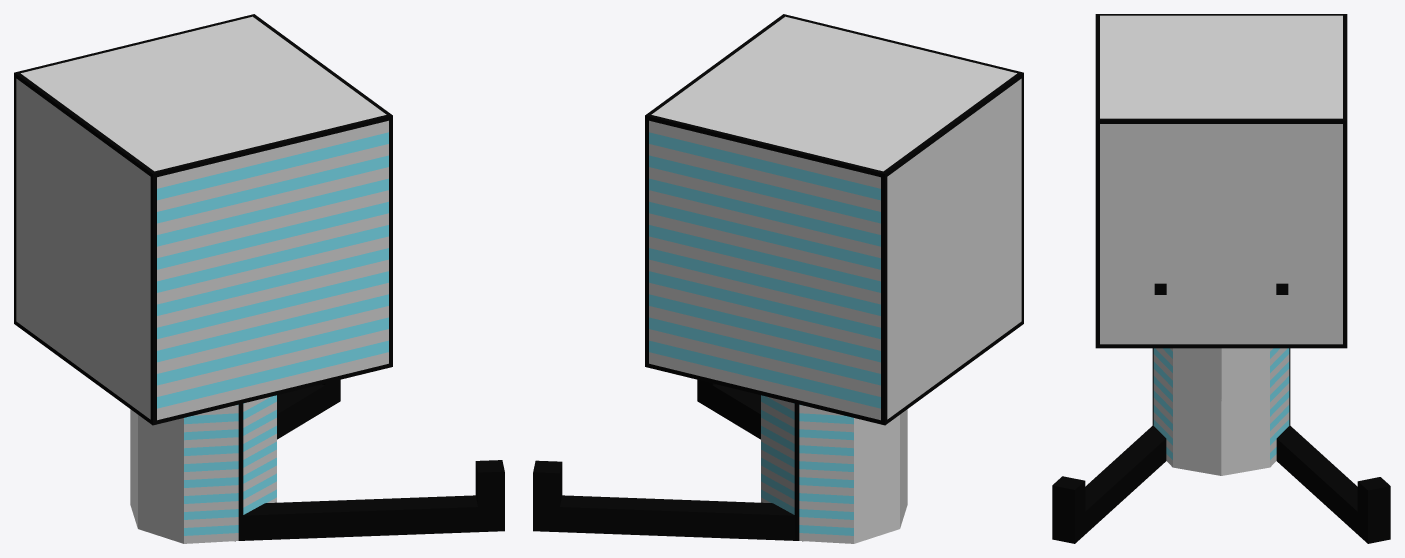
Rendered from CubeHead.fbx.
3 renders of one model, left to right at view 1: azimuth 30°, elevation 25°; view 2: azimuth 150°, elevation 25°; view 3: azimuth 270°, elevation 25°, orthographic. The views are drawn at different scales.
Parts seen in each view (by area): view 1: Cube; view 2: Cube; view 3: Cube.
Boxes of the visible parts, box(x1,y1,x2,y2) form: Cube: box(14, 14, 504, 543); Cube: box(533, 14, 1023, 543); Cube: box(1052, 14, 1390, 543).
Size of the model in its own units: 29.56 by 35.05 by 28.28.
